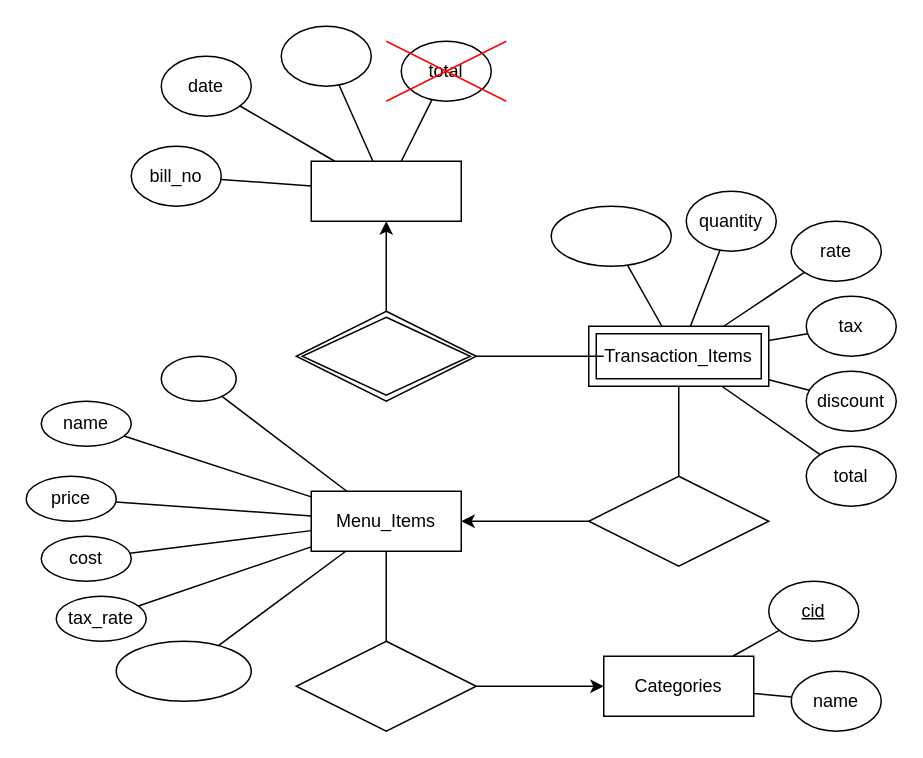
The diagram is 923 pixels wide and 758 high, and some of its shapes have lost their labels. The centre of each missing label's shape, as x and y in pixels:
belong_to: the point at 385,685
contain: the point at 385,355
discount_rate: the point at 183,670
iid: the point at 198,378
line_no: the point at 610,235
reference: the point at 678,520
tid: the point at 325,55
Transactions: the point at 385,190
